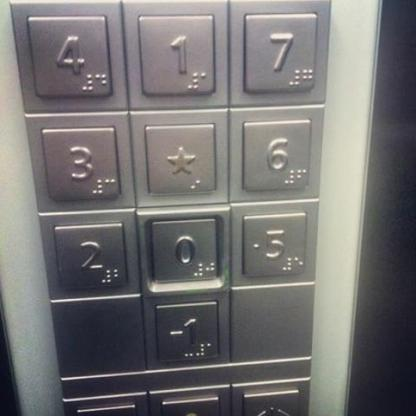-1: (150, 297, 223, 366)
0: (144, 212, 224, 290)
1: (134, 10, 218, 98)
2: (49, 217, 130, 293)
3: (36, 122, 126, 204)
4: (23, 11, 116, 102)
5: (238, 209, 309, 278)
6: (236, 115, 315, 194)
7: (237, 7, 319, 94)
s: (141, 118, 221, 198)
